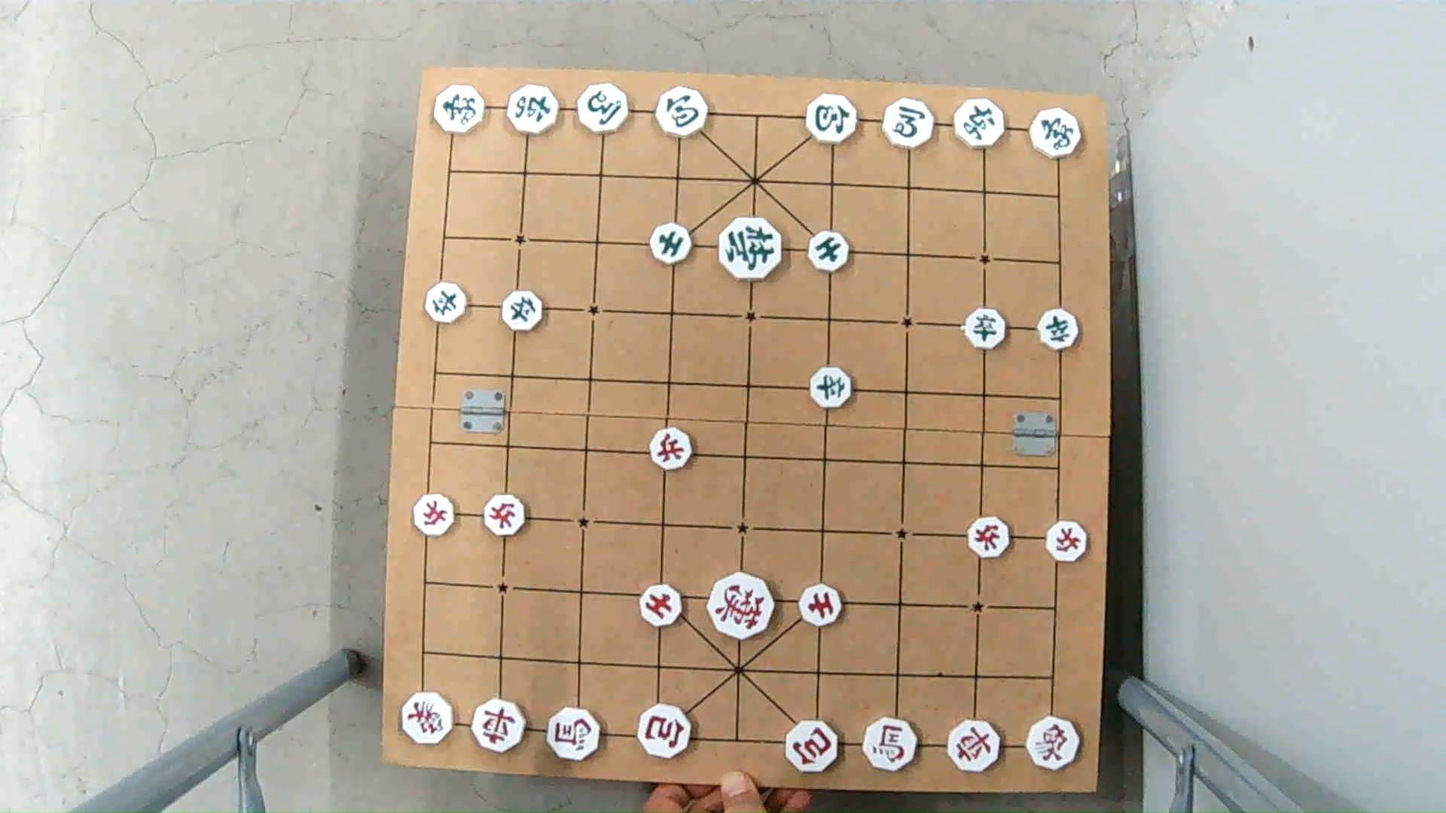cha_green: (950, 99, 1006, 145), (504, 87, 560, 133)
cha_red: (468, 701, 527, 751), (946, 719, 1004, 766)
jol_green: (807, 370, 854, 408), (962, 309, 1010, 346), (502, 293, 547, 331), (423, 284, 469, 321), (1035, 311, 1080, 348)
jol_red: (481, 496, 529, 534), (648, 430, 695, 468), (1042, 523, 1089, 561), (963, 517, 1011, 554), (410, 496, 456, 534)
ma_green: (883, 102, 940, 148), (577, 88, 633, 134)
ma_red: (542, 708, 603, 759), (856, 719, 917, 768)
po_green: (654, 92, 714, 137), (802, 96, 860, 141)
po_red: (636, 707, 693, 757), (785, 724, 843, 772)
sa_green: (805, 233, 851, 269), (647, 226, 693, 261)
sa_red: (796, 587, 847, 626), (638, 583, 686, 623)
sang_green: (434, 85, 489, 131), (1026, 110, 1079, 157)
sang_red: (1025, 717, 1084, 766), (400, 693, 454, 743)
wang_green: (721, 218, 788, 281)
wang_red: (704, 575, 776, 639)
